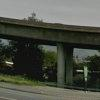Bridge: (4, 8, 99, 66)
